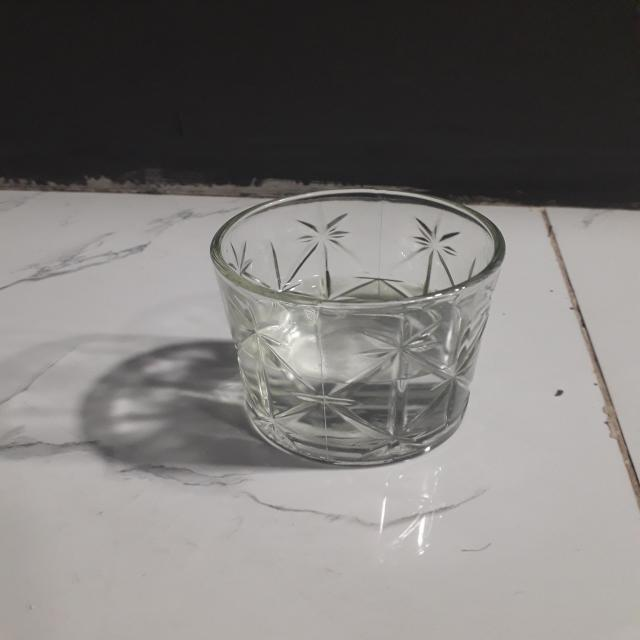glass-normal: (204, 181, 511, 468)
